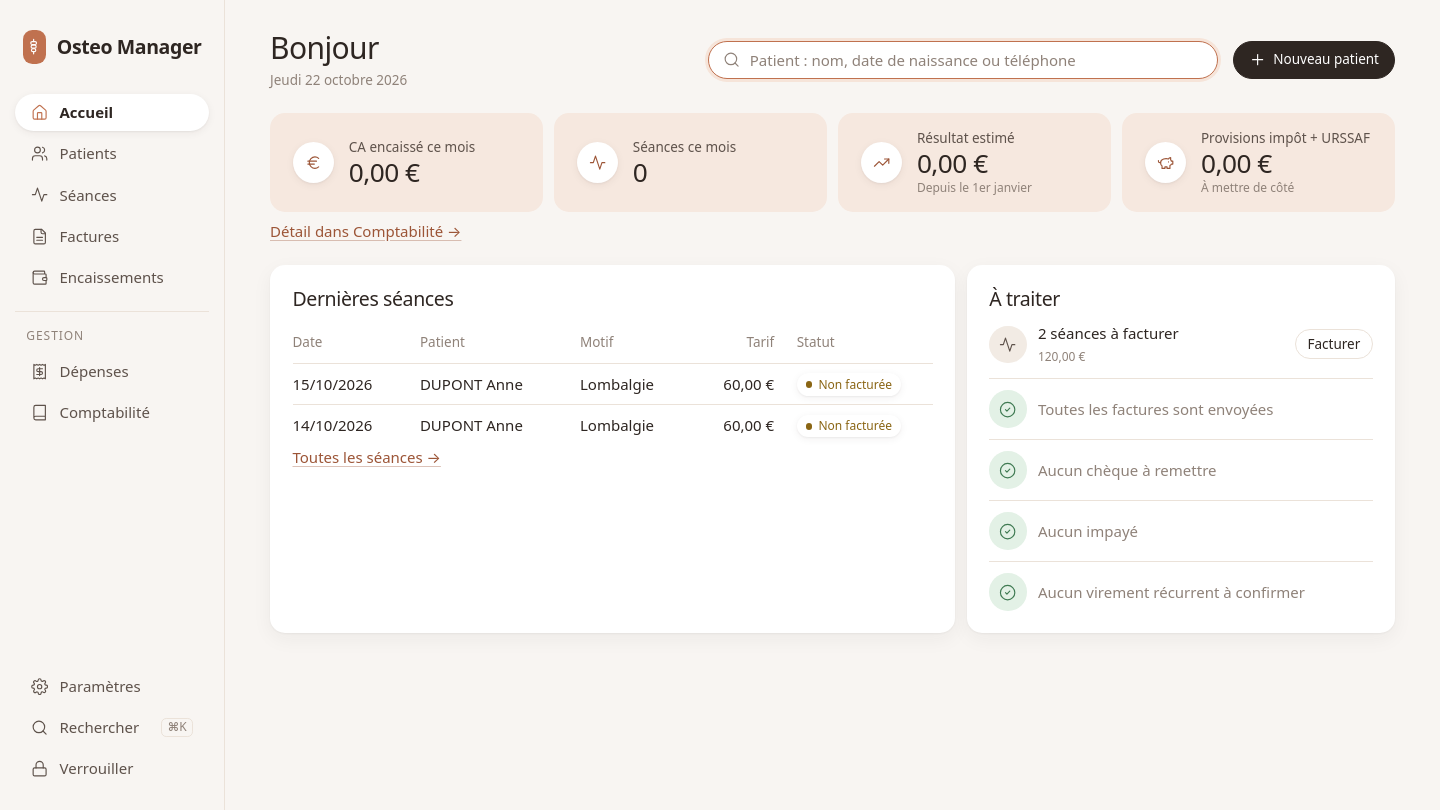
Test case: dernières séances avec leur statut
Click the button with aria-label "Facturer : 2 séances à facturer" at (1334, 344), box left=1295, top=329, right=1372, bottom=359
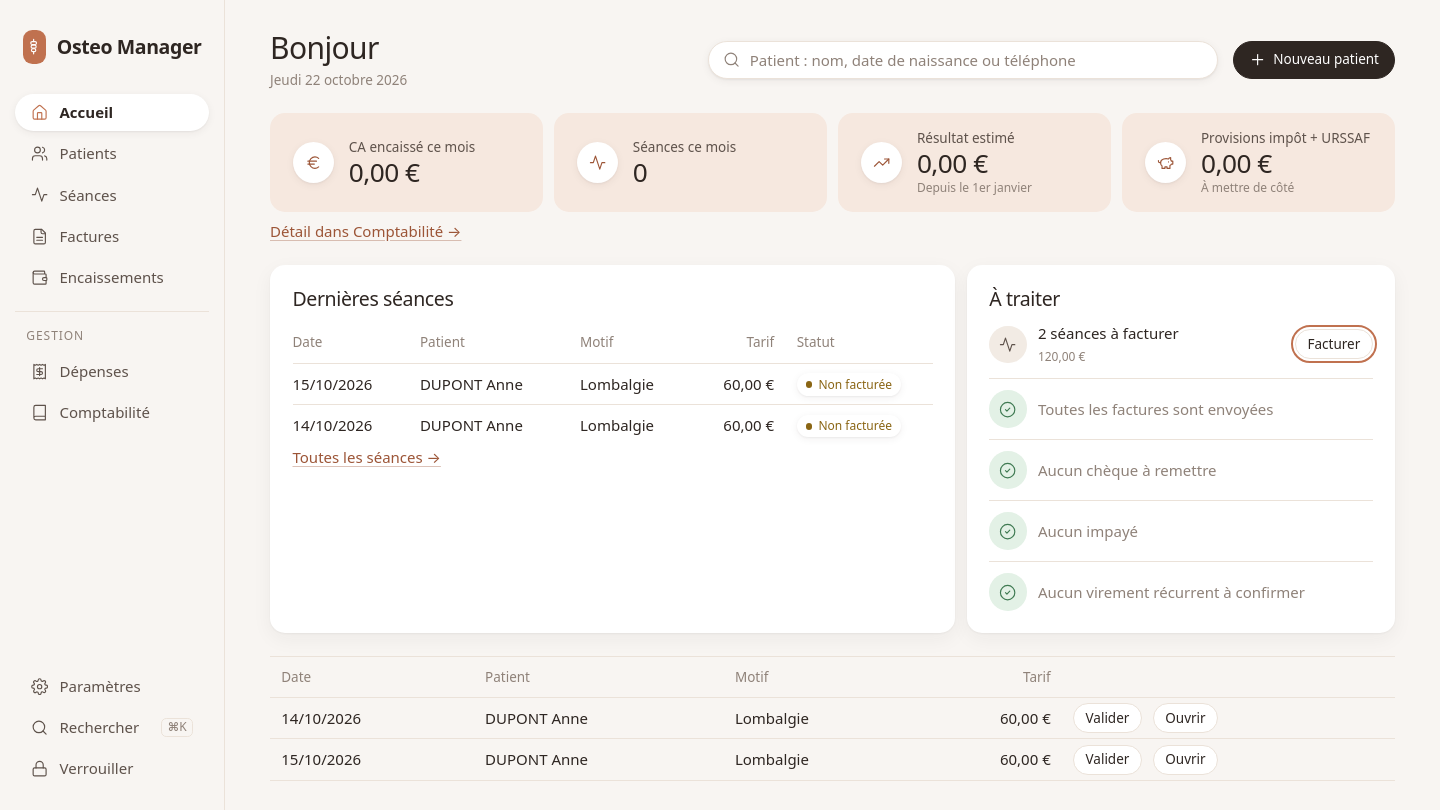
Expected: the text "Non facturée" is shown 2 times, left=797, top=373, right=901, bottom=396; left=797, top=415, right=901, bottom=437
Click the 1st button "Valider" at (1108, 718), box left=1073, top=703, right=1142, bottom=733
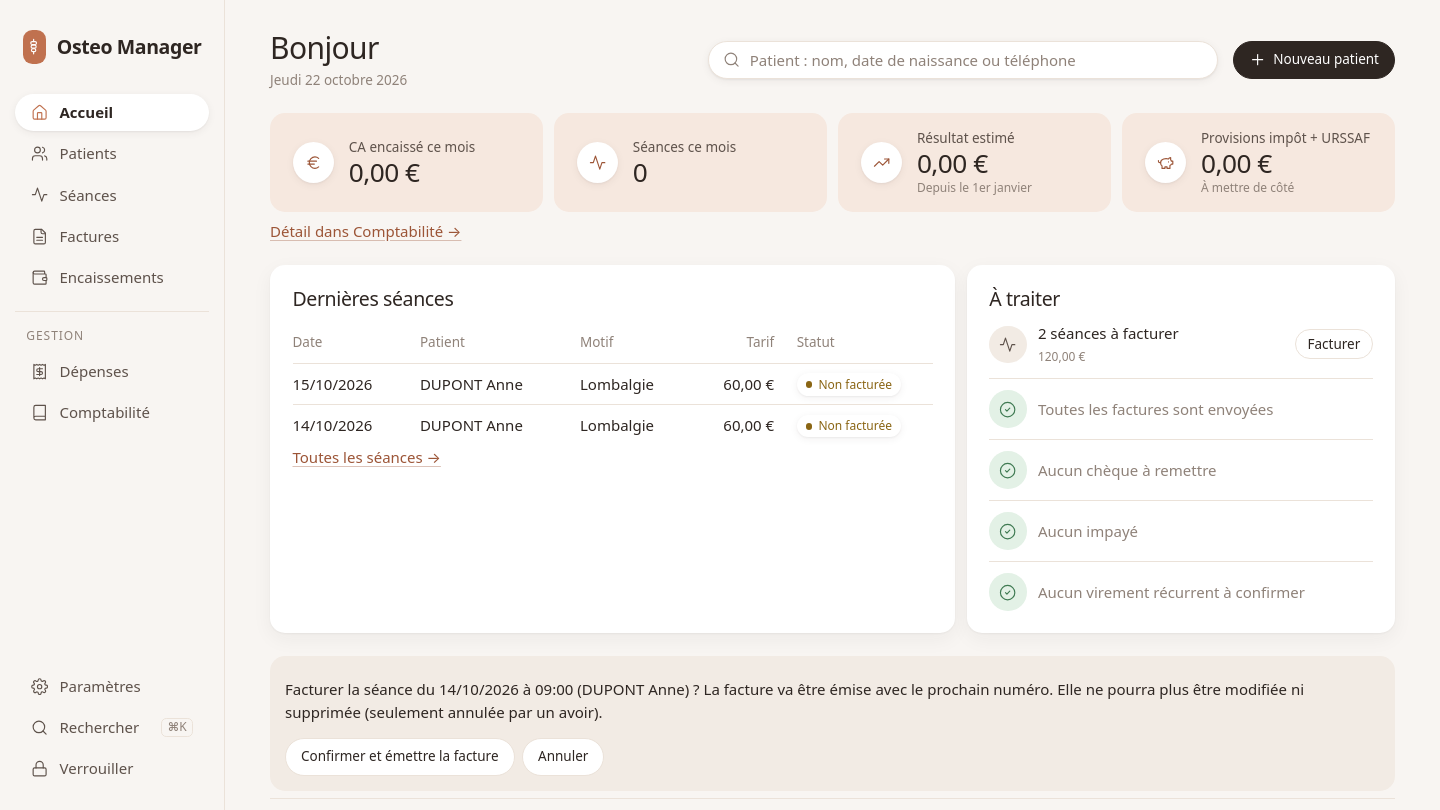
Click the button "Confirmer et émettre la facture" at (400, 757), box left=285, top=738, right=514, bottom=776
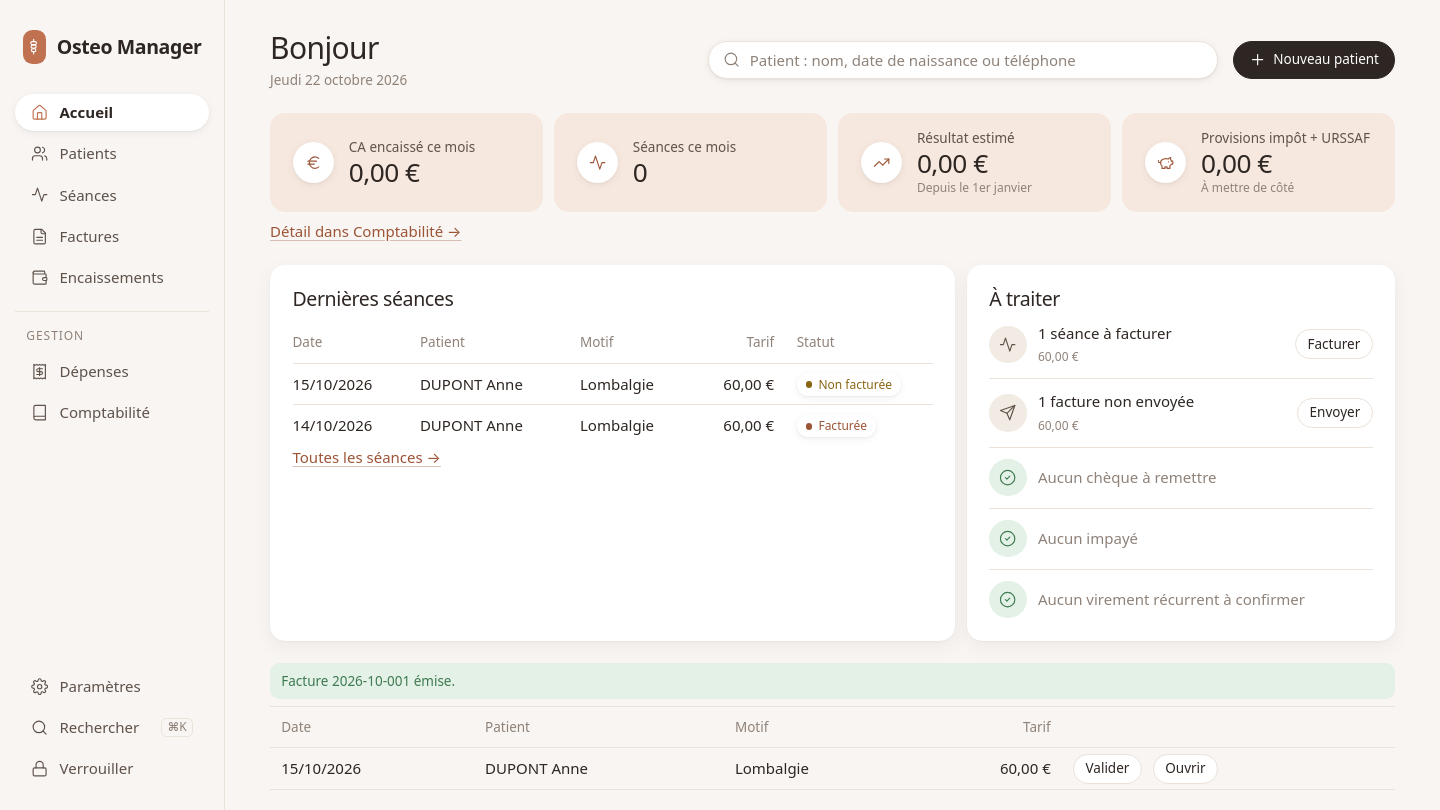
Expected: the text "Facturée" is shown, left=797, top=415, right=876, bottom=437
Click the button "Patients" at (112, 154), box left=15, top=135, right=209, bottom=172
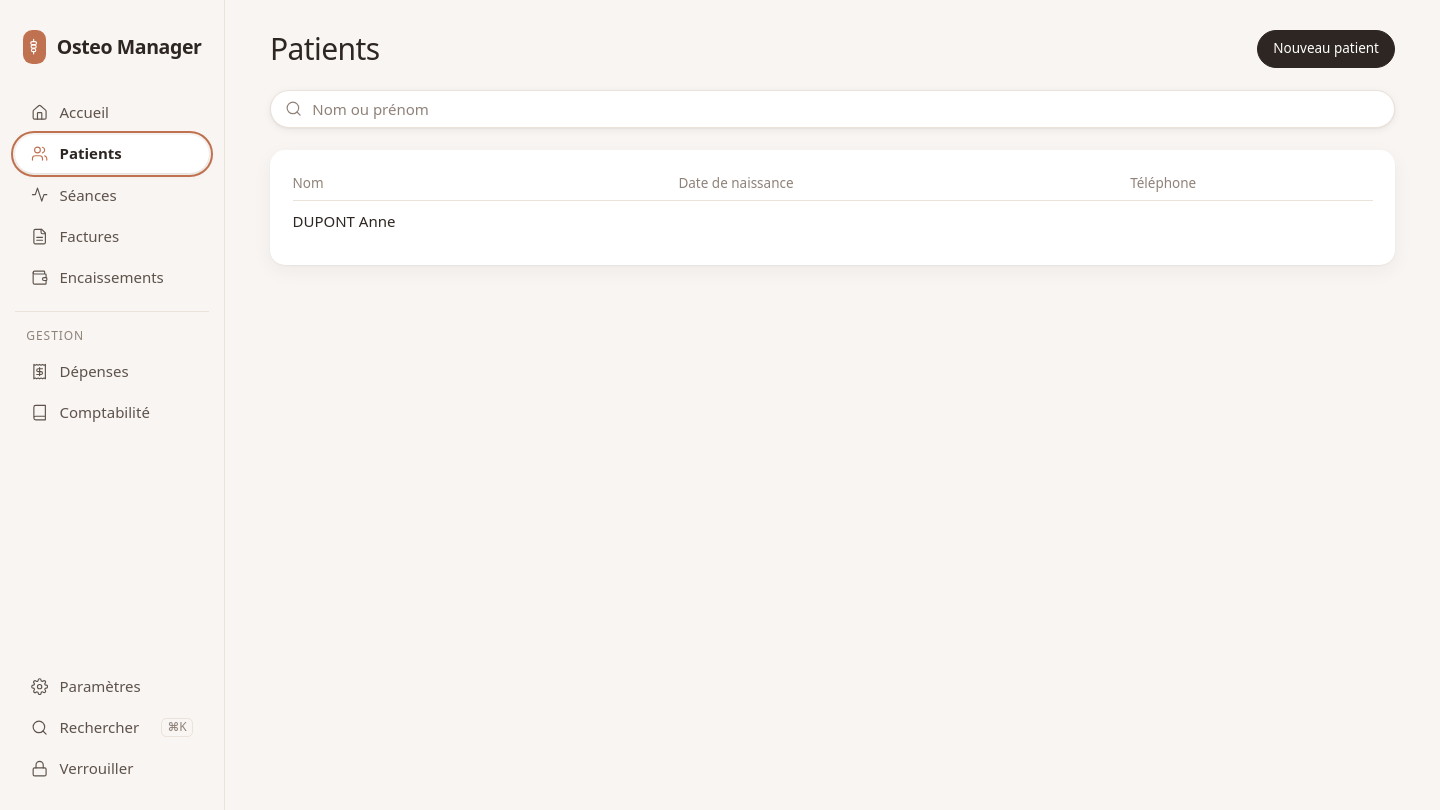
Click the button "Accueil" at (112, 113), box left=15, top=94, right=209, bottom=131
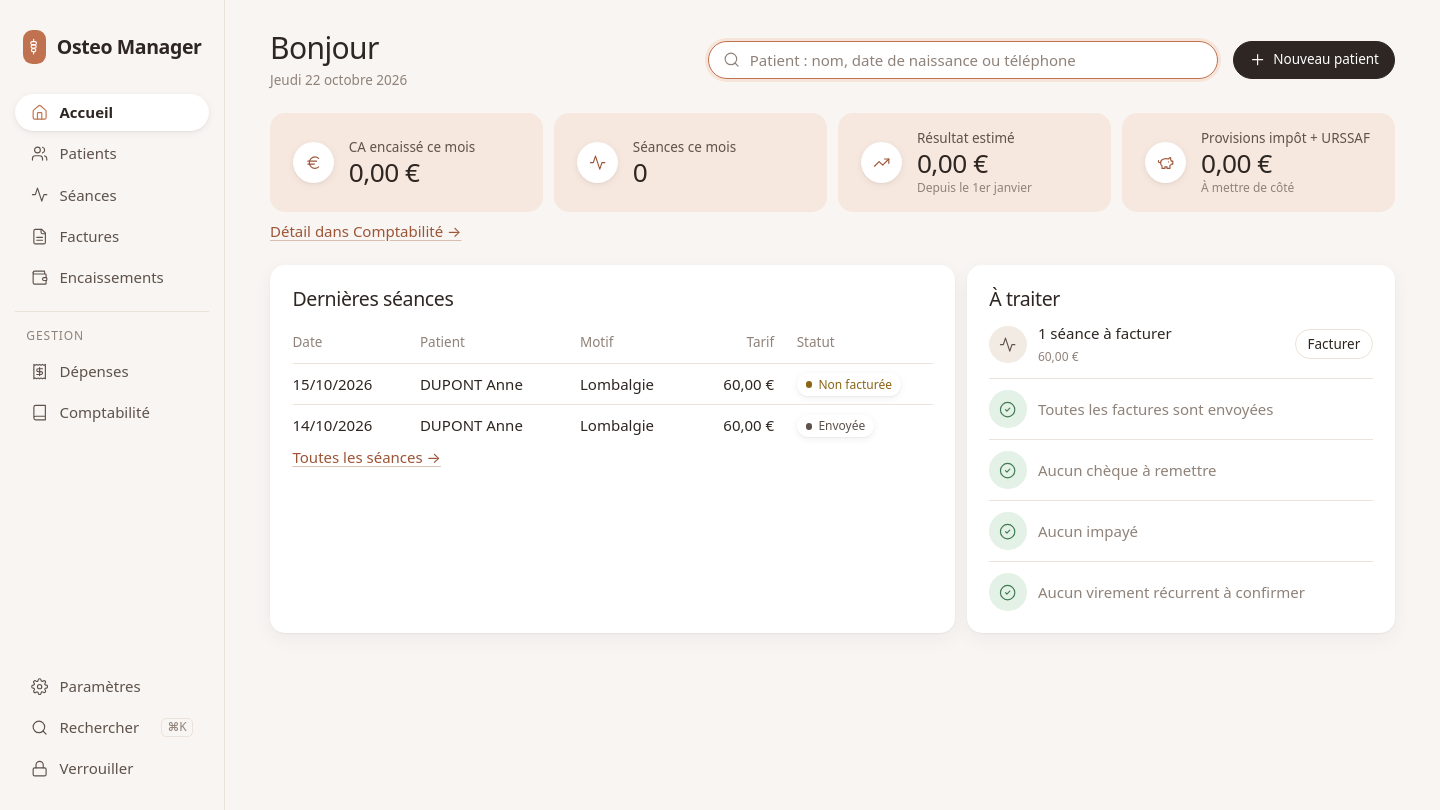
Result: the text "Envoyée" is shown at left=797, top=415, right=874, bottom=437
